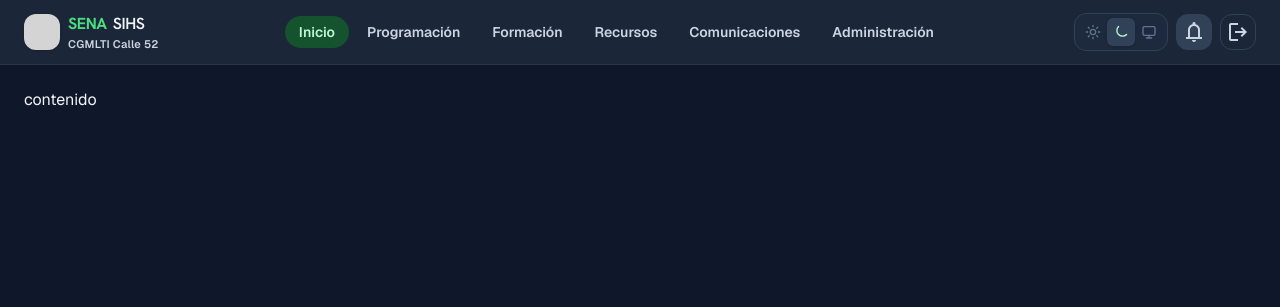
Test: AppShell › un Administrador ve "Solicitudes de acceso" dentro de Administración
Click the button "Administración": (883, 32) [818,16,948,48]
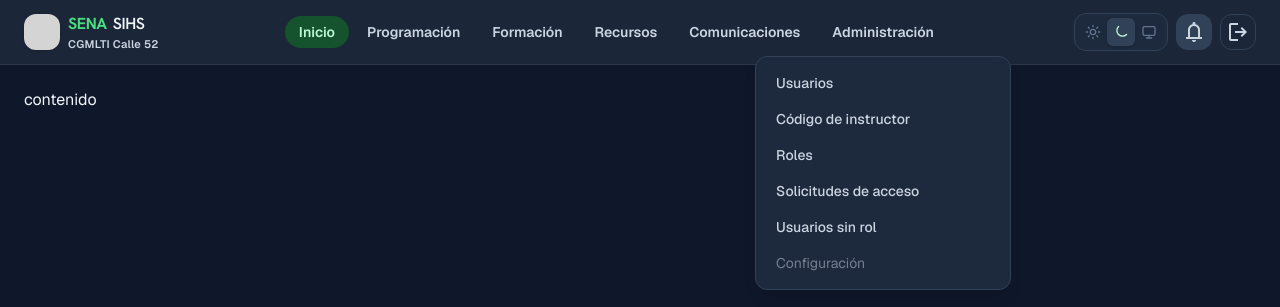
Check: the link "Solicitudes de acceso" is shown, box [776,182,919,200]
